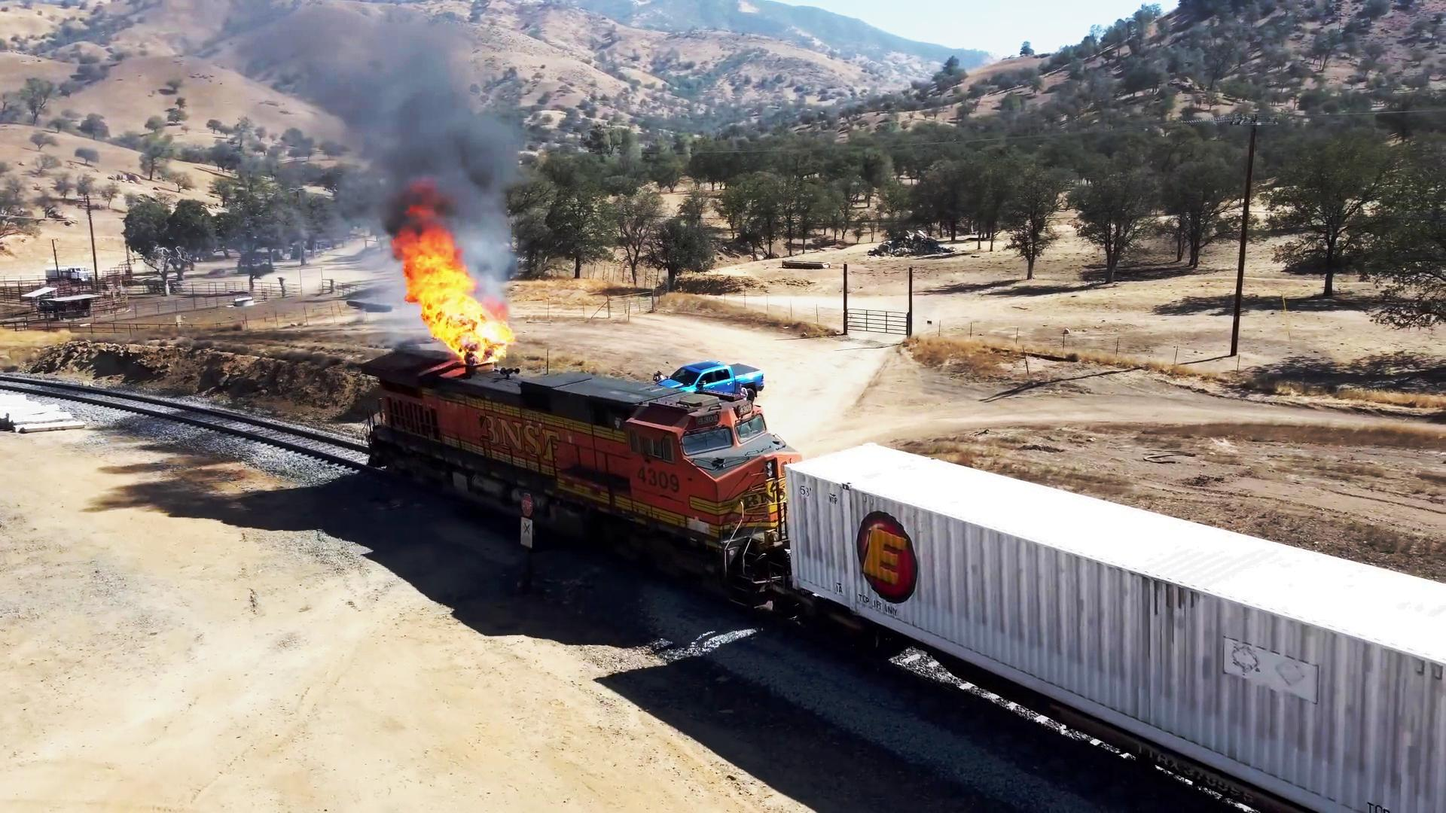fire: (394, 207, 514, 372)
smoke: (323, 34, 496, 198)
